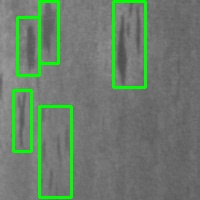inclusion: (39, 106, 71, 197), (113, 1, 145, 87), (17, 18, 39, 75), (39, 1, 58, 63), (13, 90, 31, 151)
